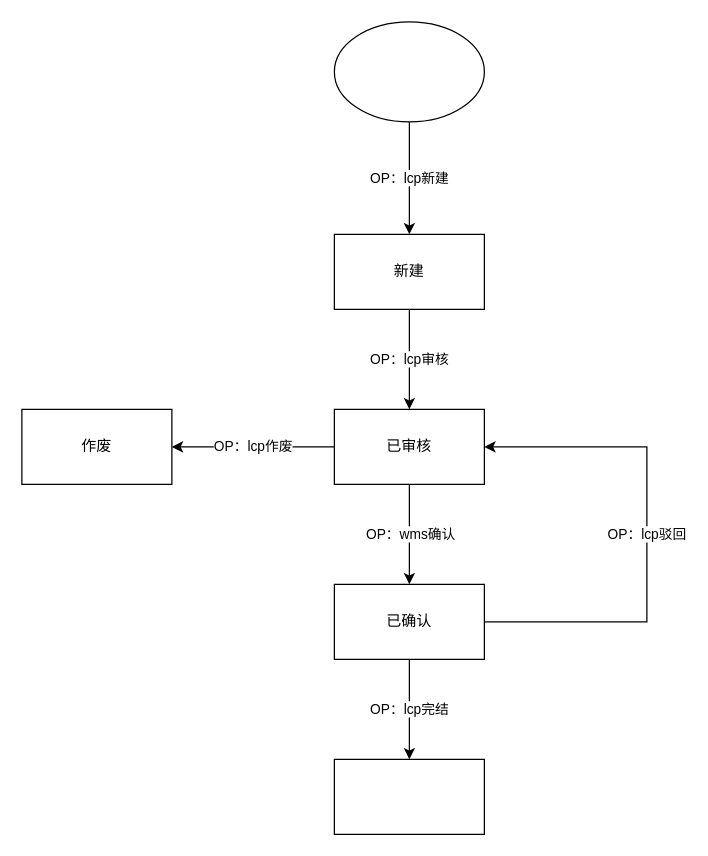
Image size: 708x856. Some labels were removed from this diagram. Here are the shapes that lost their labels. From the top down, the box of each, then its label:
(333, 21, 484, 122): start
(333, 758, 484, 834): 完结
